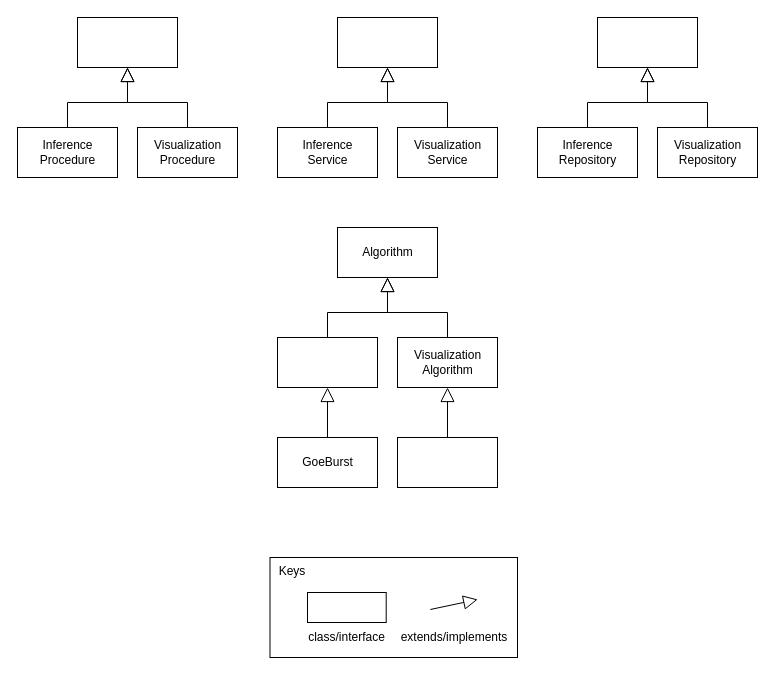
This 775x675 diagram has some shape labels left out. Each missing label, with the centre of its shape:
"Inference Algorithm" goes at [327,362].
"Procedure" goes at [127,42].
"Radial" goes at [447,462].
"Repository" goes at [647,42].
"Service" goes at [387,42].
